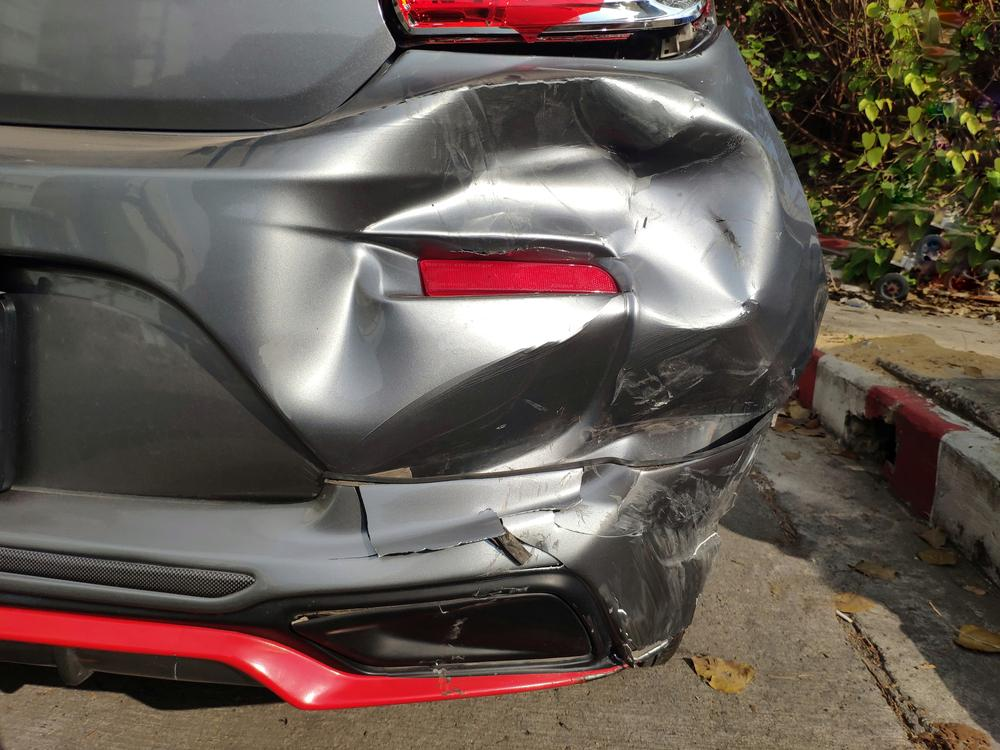crack: (325, 472, 608, 573), (685, 406, 778, 455)
dent: (252, 70, 802, 465)
lamp broken: (391, 0, 717, 58)
scratch: (607, 473, 736, 627)
